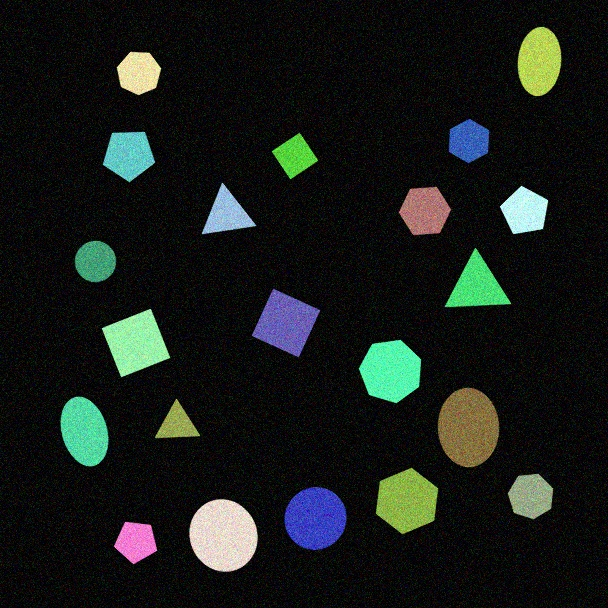Circulo: (189, 498, 258, 573), (284, 486, 347, 551), (74, 240, 117, 283)
Elipse: (437, 387, 500, 468), (60, 396, 109, 467), (517, 26, 562, 97)
Heptagono: (358, 339, 422, 404), (507, 473, 554, 520), (116, 51, 162, 96)
Hexagono: (375, 467, 439, 535), (398, 186, 452, 236), (448, 118, 490, 164)
Pentagono: (102, 131, 156, 183), (499, 185, 549, 235), (113, 521, 158, 565)
Quadrado: (251, 288, 321, 358), (101, 308, 171, 378), (271, 132, 319, 180)
Triangulo: (444, 248, 512, 308), (201, 183, 257, 235), (154, 399, 201, 439)
